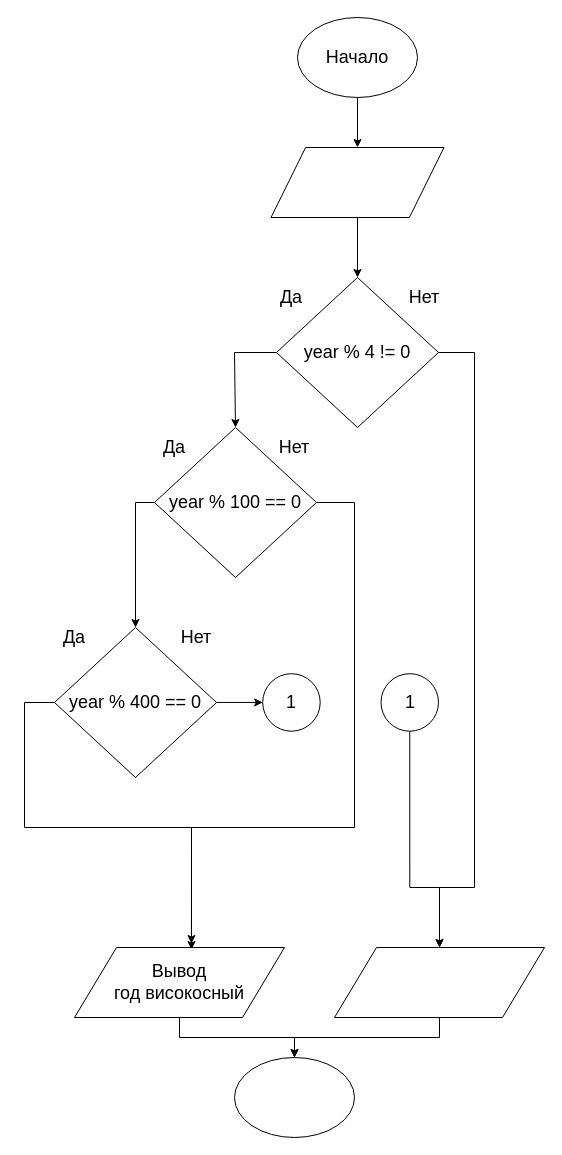
Image size: 562x1155. Some labels were removed from this diagram. Here are the shapes that lost their labels. From the top down, the centre of each, then its label:
the point at 357,182: Ввод year: int
the point at 439,982: Вывод год не високосный
the point at 294,1097: Конец
